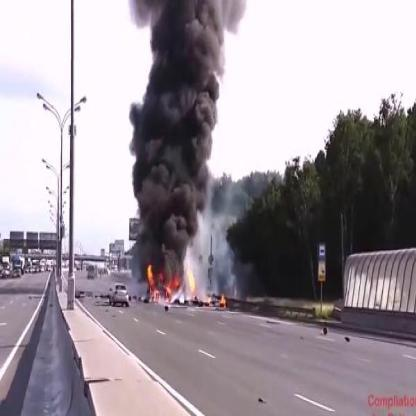fire: (145, 257, 197, 306), (209, 294, 227, 310)
